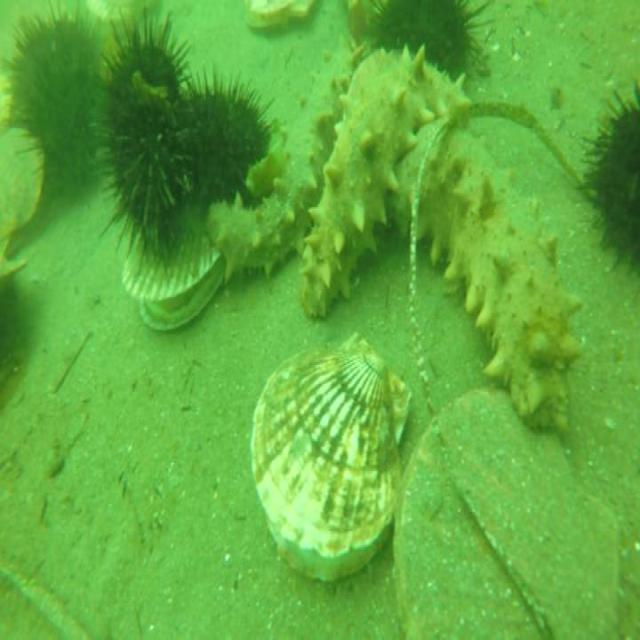echinus: (5, 6, 107, 202), (99, 94, 192, 268), (176, 73, 274, 218), (580, 69, 640, 294), (96, 3, 192, 114), (365, 0, 487, 85)
holothurian: (388, 109, 582, 436), (296, 49, 466, 316), (212, 44, 356, 289)
scallop: (393, 373, 627, 640), (245, 321, 412, 594), (119, 226, 223, 337), (0, 116, 46, 284), (239, 0, 323, 32)
